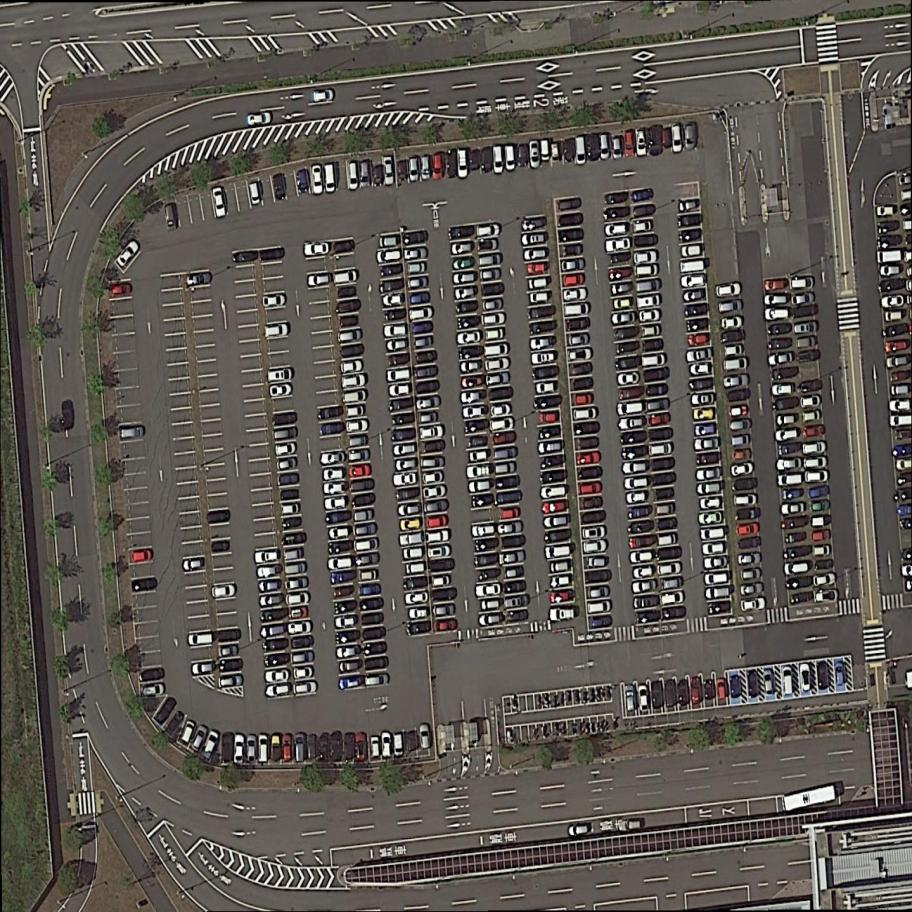large-vehicle: (784, 783, 839, 810)
small-vehicle: (113, 239, 142, 269), (197, 729, 223, 761), (154, 695, 180, 725), (188, 724, 212, 754), (210, 184, 229, 220), (176, 718, 198, 748), (164, 709, 188, 736), (522, 244, 552, 263), (619, 443, 650, 461), (131, 575, 160, 594), (258, 605, 287, 624), (497, 548, 527, 566), (603, 236, 633, 254), (415, 377, 443, 396), (351, 490, 379, 509), (532, 364, 563, 381), (414, 393, 443, 411), (338, 341, 367, 359), (217, 672, 246, 690), (430, 586, 459, 604), (643, 366, 672, 384), (549, 587, 576, 606), (264, 651, 292, 669), (281, 531, 309, 549), (566, 821, 594, 839), (540, 454, 568, 472), (262, 637, 291, 654), (539, 468, 568, 485), (267, 381, 294, 399), (246, 110, 273, 128), (502, 592, 529, 610), (603, 189, 630, 207), (325, 509, 355, 525), (881, 102, 897, 132), (540, 484, 570, 500), (459, 389, 487, 406), (483, 356, 511, 373), (448, 224, 476, 241), (332, 269, 360, 286), (425, 527, 453, 544), (474, 581, 502, 598), (585, 599, 613, 616), (618, 385, 646, 402), (414, 348, 439, 367), (332, 238, 357, 257), (182, 555, 207, 574), (323, 494, 348, 513), (207, 509, 233, 527), (694, 436, 720, 454), (695, 451, 721, 469), (647, 411, 673, 429), (353, 732, 368, 763), (339, 373, 368, 389), (417, 424, 446, 440), (362, 672, 391, 688), (327, 539, 356, 555), (738, 597, 767, 613), (544, 544, 573, 560), (649, 456, 678, 472), (389, 396, 416, 413), (464, 418, 491, 435), (339, 358, 366, 375), (272, 425, 299, 442), (264, 682, 291, 699), (335, 642, 362, 659), (191, 660, 218, 677), (139, 666, 166, 683), (402, 589, 429, 606), (632, 578, 659, 595), (788, 275, 815, 292), (781, 514, 808, 531), (728, 460, 755, 477), (732, 476, 759, 493), (627, 503, 654, 520), (647, 441, 674, 458), (717, 298, 744, 315), (412, 334, 437, 352), (350, 476, 375, 494), (586, 133, 601, 163), (292, 734, 307, 764), (130, 547, 155, 565), (777, 439, 802, 457), (695, 467, 725, 482), (412, 365, 440, 381), (407, 305, 435, 321), (119, 424, 147, 440), (187, 632, 215, 648), (394, 486, 422, 502), (651, 680, 665, 712), (664, 677, 678, 709), (628, 519, 656, 535), (613, 326, 641, 342), (650, 472, 678, 488), (647, 426, 675, 442), (685, 348, 713, 364), (616, 401, 644, 417), (322, 464, 348, 481), (383, 154, 396, 188), (364, 655, 390, 672), (246, 180, 263, 206), (141, 682, 167, 699), (331, 569, 357, 586), (261, 623, 287, 640), (259, 593, 285, 610), (545, 528, 571, 545), (738, 534, 764, 551), (659, 575, 685, 592), (615, 355, 641, 372), (253, 549, 282, 564), (676, 680, 691, 709), (631, 594, 660, 609), (698, 526, 727, 541), (527, 305, 556, 320), (603, 206, 632, 221), (721, 373, 750, 388), (528, 139, 542, 170), (337, 329, 364, 345), (266, 367, 293, 383), (319, 421, 346, 437), (483, 341, 510, 357), (455, 330, 482, 346), (291, 680, 318, 696), (233, 249, 260, 265), (219, 658, 246, 674), (353, 538, 380, 554), (398, 531, 425, 547), (475, 536, 499, 554), (396, 501, 423, 517), (406, 620, 430, 638), (735, 506, 762, 522), (659, 591, 686, 607), (656, 545, 683, 561), (767, 351, 794, 367), (783, 544, 810, 560), (773, 396, 800, 412), (614, 341, 641, 357), (521, 217, 548, 233), (689, 376, 716, 392), (457, 146, 470, 179), (342, 403, 367, 420), (186, 271, 211, 288), (333, 582, 358, 599), (807, 483, 832, 500), (60, 399, 74, 429), (484, 371, 512, 386), (432, 152, 446, 182), (316, 734, 331, 762), (330, 732, 344, 762), (549, 607, 577, 622), (714, 283, 742, 298), (622, 461, 650, 476), (620, 430, 648, 445), (342, 388, 368, 404), (385, 367, 411, 383), (423, 438, 449, 454), (490, 416, 516, 432), (495, 489, 521, 505), (458, 344, 484, 360), (475, 223, 501, 239), (574, 133, 587, 165), (307, 272, 333, 288), (376, 249, 402, 265), (338, 675, 364, 691), (233, 734, 246, 766), (425, 543, 451, 559), (473, 554, 499, 570), (257, 562, 283, 578), (590, 615, 616, 631), (581, 538, 607, 554), (812, 572, 838, 588), (787, 575, 813, 591), (543, 515, 569, 531), (680, 258, 706, 274), (566, 332, 592, 348), (569, 362, 595, 378), (581, 509, 607, 525), (557, 197, 583, 213), (558, 228, 584, 244), (610, 266, 636, 282), (720, 328, 746, 344), (539, 440, 565, 456), (576, 451, 602, 467), (453, 255, 477, 272), (291, 634, 315, 651), (655, 531, 679, 548), (632, 186, 656, 203), (694, 421, 718, 438), (686, 317, 710, 334), (460, 404, 489, 418), (164, 203, 178, 232), (421, 500, 450, 514), (679, 274, 708, 288), (320, 450, 347, 465), (336, 299, 363, 314), (328, 556, 355, 571), (637, 610, 664, 625), (560, 257, 587, 272), (644, 398, 671, 413), (418, 152, 431, 183), (359, 159, 372, 190), (245, 734, 258, 765), (273, 442, 298, 458), (273, 411, 298, 427), (492, 460, 517, 476), (363, 640, 388, 656), (217, 628, 242, 644), (421, 469, 446, 485), (503, 580, 528, 596), (735, 521, 760, 537), (797, 348, 822, 364), (768, 321, 793, 337), (793, 304, 818, 320), (885, 322, 910, 338), (802, 440, 827, 456), (678, 228, 703, 244), (273, 173, 287, 201), (520, 232, 548, 246), (559, 214, 587, 228), (276, 456, 299, 473), (497, 474, 520, 491), (482, 326, 505, 343), (361, 611, 384, 628), (502, 565, 525, 582), (312, 87, 335, 104), (633, 202, 656, 219), (262, 323, 288, 338), (460, 374, 486, 389), (294, 169, 309, 195), (382, 322, 408, 337), (261, 293, 287, 308), (260, 247, 286, 262), (265, 668, 291, 683), (335, 629, 361, 644), (210, 583, 236, 598), (352, 523, 378, 538), (285, 592, 311, 607), (283, 562, 309, 577), (704, 571, 730, 586), (498, 520, 524, 535), (585, 585, 611, 600), (783, 562, 809, 577), (802, 455, 828, 470), (567, 348, 593, 363), (725, 388, 751, 403), (576, 465, 602, 480), (536, 395, 562, 410), (574, 421, 600, 436), (619, 416, 645, 431), (386, 337, 410, 353), (347, 447, 371, 463), (395, 456, 419, 472), (705, 555, 729, 571), (885, 338, 909, 354), (784, 530, 808, 546), (642, 353, 666, 369), (631, 219, 655, 235), (684, 302, 708, 318), (390, 428, 417, 442), (704, 586, 731, 600), (280, 734, 293, 763), (428, 559, 457, 572), (689, 677, 702, 706), (489, 386, 514, 401), (493, 446, 518, 461), (403, 246, 428, 261), (472, 523, 497, 538), (355, 551, 380, 566), (478, 613, 503, 628), (501, 534, 526, 549), (698, 510, 723, 525), (701, 541, 726, 556), (737, 551, 762, 566), (657, 561, 682, 576), (793, 320, 818, 335), (764, 307, 789, 322), (790, 291, 815, 306), (877, 249, 902, 264), (771, 366, 796, 381), (813, 589, 838, 604), (780, 501, 805, 516), (778, 472, 803, 487), (565, 317, 590, 332), (531, 335, 556, 350), (611, 311, 636, 326), (691, 392, 716, 407), (722, 356, 747, 371), (472, 493, 494, 510), (290, 619, 312, 636), (446, 149, 458, 180), (492, 144, 504, 175), (747, 669, 759, 700), (433, 602, 456, 618), (630, 534, 653, 550), (664, 606, 687, 622), (796, 334, 819, 350), (880, 278, 903, 294), (790, 590, 813, 606), (678, 198, 701, 214), (688, 332, 711, 348), (690, 360, 713, 376), (270, 735, 283, 763), (392, 472, 418, 486), (283, 576, 309, 590), (776, 457, 802, 471), (580, 524, 606, 538), (530, 321, 556, 335), (635, 279, 661, 293), (684, 122, 697, 150), (632, 249, 658, 263), (571, 407, 597, 421), (392, 411, 416, 426), (318, 406, 342, 421), (345, 418, 369, 433), (492, 431, 516, 446), (477, 253, 501, 268), (381, 293, 405, 308), (482, 312, 506, 327), (454, 286, 478, 301), (293, 666, 317, 681), (363, 626, 387, 641), (406, 575, 430, 590), (360, 596, 384, 611), (435, 619, 459, 634), (259, 578, 283, 593), (281, 547, 305, 562), (740, 582, 764, 597), (800, 664, 812, 694), (878, 234, 902, 249), (798, 394, 822, 409), (774, 427, 798, 442), (610, 282, 634, 297), (526, 262, 550, 277), (385, 307, 407, 323), (708, 600, 730, 616), (878, 219, 900, 235), (642, 337, 664, 353), (626, 490, 648, 506), (703, 680, 716, 707), (480, 283, 505, 297), (419, 725, 433, 750), (357, 582, 382, 596), (504, 610, 529, 624), (618, 819, 643, 833), (678, 214, 703, 228), (562, 272, 587, 286), (624, 477, 649, 491), (371, 158, 383, 187), (505, 143, 517, 172), (563, 135, 575, 164), (344, 733, 356, 762), (257, 734, 269, 763), (782, 666, 794, 695), (417, 410, 440, 425), (489, 403, 512, 418), (454, 271, 477, 286), (412, 321, 435, 336), (381, 279, 404, 294), (478, 268, 501, 283), (393, 442, 416, 457), (291, 650, 314, 665), (630, 549, 653, 564), (740, 567, 763, 582), (889, 398, 912, 413), (886, 354, 909, 369), (882, 294, 905, 309), (808, 498, 831, 513), (527, 276, 550, 291), (693, 407, 716, 422), (580, 496, 603, 511), (312, 164, 323, 195), (324, 163, 335, 194), (222, 733, 233, 764), (636, 294, 662, 307), (387, 353, 411, 367), (324, 481, 348, 495), (305, 734, 317, 762), (333, 601, 357, 615), (763, 670, 775, 698), (811, 513, 832, 529), (766, 278, 787, 294), (633, 235, 657, 249), (729, 418, 753, 432), (540, 425, 561, 441), (278, 472, 300, 487), (476, 238, 498, 253), (339, 659, 361, 674), (218, 644, 240, 659), (335, 614, 357, 629), (402, 546, 424, 561), (427, 515, 449, 530), (633, 566, 655, 581), (818, 662, 829, 692), (800, 379, 822, 394), (801, 409, 823, 424), (636, 127, 647, 157), (651, 126, 662, 156), (654, 487, 676, 502), (538, 410, 560, 425), (646, 382, 668, 397), (423, 484, 448, 497), (729, 676, 742, 701), (733, 493, 758, 506), (531, 352, 556, 365), (564, 303, 589, 316), (542, 502, 567, 515), (575, 438, 600, 451), (624, 684, 636, 711), (389, 384, 412, 398), (458, 316, 481, 330), (481, 298, 504, 312), (478, 568, 501, 582), (700, 496, 723, 510), (638, 309, 661, 323), (721, 316, 744, 330), (482, 145, 493, 174), (380, 732, 391, 761), (625, 129, 636, 158), (460, 359, 481, 374), (468, 449, 489, 464), (382, 264, 403, 279), (401, 516, 422, 531), (804, 424, 825, 439), (728, 405, 749, 420), (655, 503, 676, 518), (349, 464, 373, 477), (517, 144, 529, 170), (539, 137, 551, 163), (586, 570, 612, 582), (804, 470, 828, 483), (349, 161, 359, 192), (469, 480, 491, 494), (409, 156, 420, 184), (408, 276, 430, 290), (456, 301, 478, 315), (353, 509, 375, 523), (287, 606, 309, 620), (600, 132, 611, 160), (639, 684, 650, 712), (716, 678, 727, 706), (550, 560, 572, 574), (782, 487, 804, 501), (672, 124, 683, 152), (561, 243, 583, 257), (605, 223, 627, 237), (617, 372, 639, 386), (409, 606, 429, 621), (562, 289, 587, 301), (536, 381, 556, 396), (409, 292, 432, 305), (328, 526, 351, 539), (697, 482, 720, 495), (420, 456, 447, 467), (348, 435, 369, 449), (357, 568, 378, 582), (776, 414, 797, 428), (574, 378, 595, 392), (684, 289, 705, 303), (467, 465, 489, 478), (470, 147, 481, 173), (340, 315, 362, 328), (110, 283, 132, 296), (586, 556, 608, 569), (636, 263, 658, 276), (730, 434, 752, 447), (578, 483, 604, 494), (723, 344, 745, 357), (892, 369, 911, 384), (283, 516, 303, 530), (551, 575, 571, 589), (770, 337, 790, 351), (773, 383, 793, 397), (612, 297, 632, 311), (529, 291, 549, 305), (733, 448, 753, 462), (549, 140, 561, 163), (405, 562, 426, 575), (279, 502, 300, 515), (815, 558, 836, 571), (610, 252, 631, 265), (398, 159, 408, 186), (499, 506, 518, 520), (470, 436, 489, 450), (212, 539, 231, 553), (766, 294, 788, 306), (453, 243, 473, 256), (338, 286, 358, 299), (408, 262, 428, 275), (835, 662, 845, 688), (811, 544, 831, 557), (681, 245, 701, 258), (885, 309, 903, 323), (640, 325, 661, 337), (480, 598, 499, 611), (405, 731, 416, 753), (613, 135, 623, 159), (370, 737, 380, 761), (431, 574, 451, 586), (658, 518, 676, 531), (882, 264, 900, 277), (662, 127, 672, 150), (812, 530, 831, 542), (575, 392, 593, 404), (280, 490, 299, 501), (394, 734, 403, 757), (892, 384, 908, 396), (878, 205, 894, 217)
